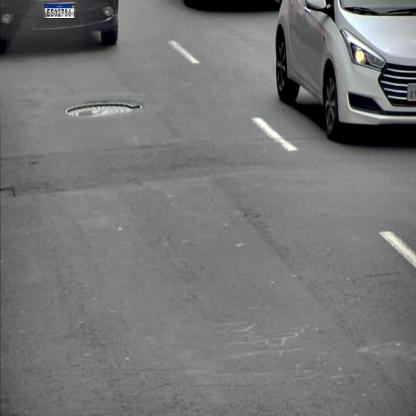PlacaM: (44, 4, 75, 19)
